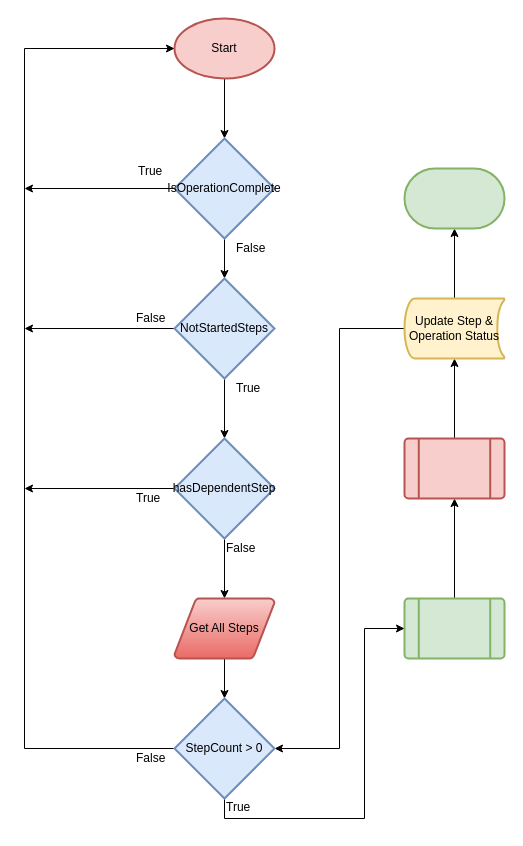
Some shapes in this 523 by 846 pixel diagram are drawn without their labels. The centre of each missing label's shape, as x and y in pixels:
Execute Individual Step: (454,628)
handleError: (454,468)
Stop: (454,198)
